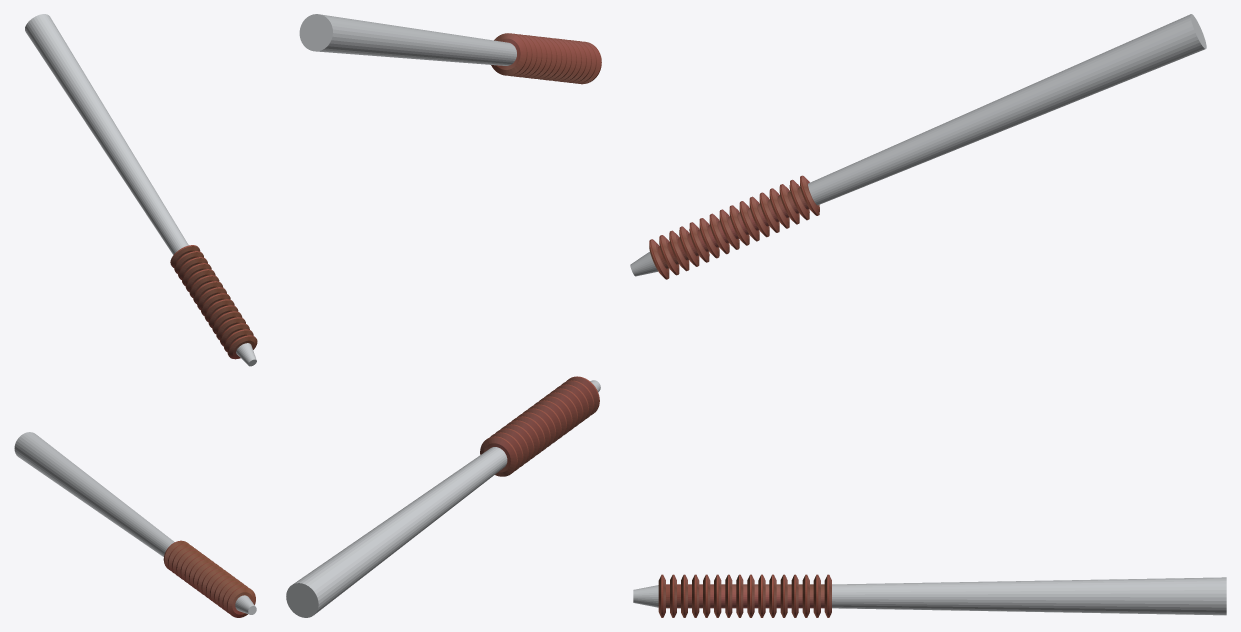
File: catenary_end_25.obj
3 views of the same model, side by side, from view 1: azimuth 30°, elevation 25°; view 2: azimuth 150°, elevation 25°; view 3: azimuth 270°, elevation 25° (orthographic). The views are drawn at different scales.
Parts seen in each view (by area): view 1: insulators.001, insulators.002; view 2: insulators.002, insulators.001; view 3: insulators.001, insulators.002.
Part boxes in pixels (bbox=[...]): insulators.001: bbox=[25, 14, 257, 366]; insulators.002: bbox=[14, 432, 256, 617]; insulators.002: bbox=[286, 376, 600, 617]; insulators.001: bbox=[299, 14, 601, 84]; insulators.001: bbox=[630, 14, 1206, 279]; insulators.002: bbox=[633, 574, 1226, 617].
Bounding box in the file's own units: 0.1451 × 2.23 × 2.01.
8 materials, 8 textured.
